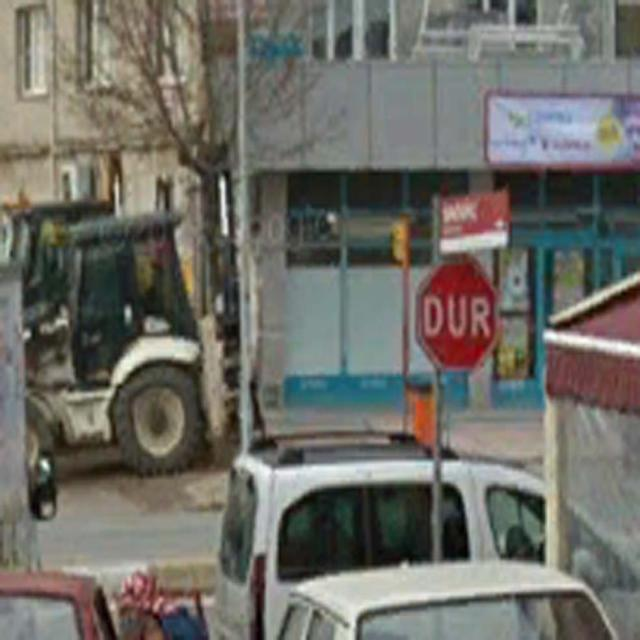dur: (414, 262, 499, 370)
